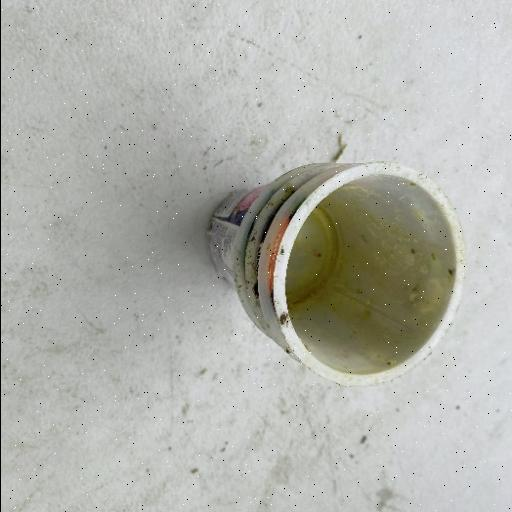Plastic: (202, 158, 468, 390)
